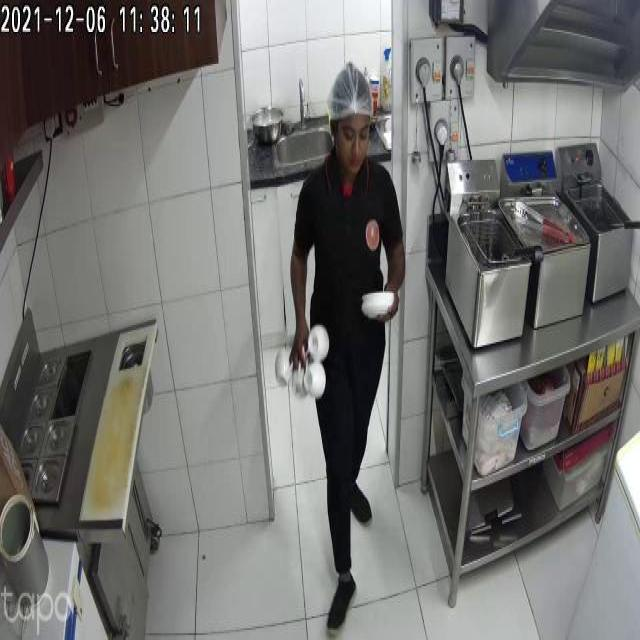hairnet: (330, 63, 373, 119)
